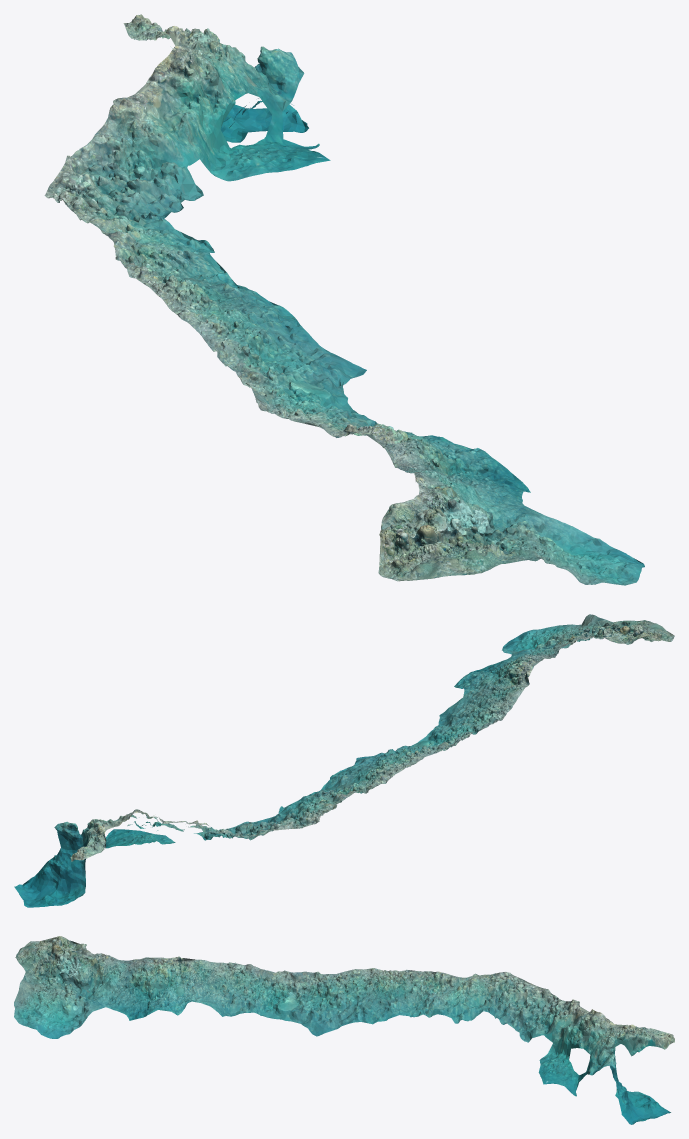
The model's file is coral_cliff.glb.
The picture shows the model from 3 angles, top to bottom: view 1: azimuth 30°, elevation 25°; view 2: azimuth 150°, elevation 25°; view 3: azimuth 270°, elevation 25°; orthographic projection. The views are drawn at different scales.
Bounding box in the file's own units: 7.11 × 1.94 × 15.61.
Materials: 1 (1 with a texture image).
